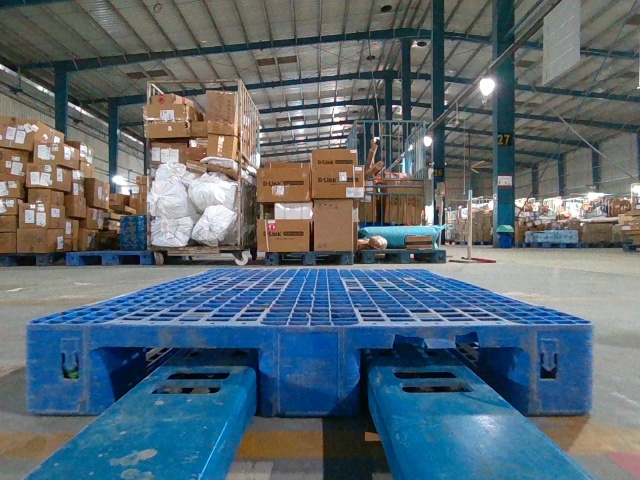block: (259, 324, 367, 412), (26, 322, 115, 409), (514, 323, 594, 415)
front: (28, 322, 598, 415)
hole pallet: (362, 348, 517, 411), (107, 348, 260, 408)
